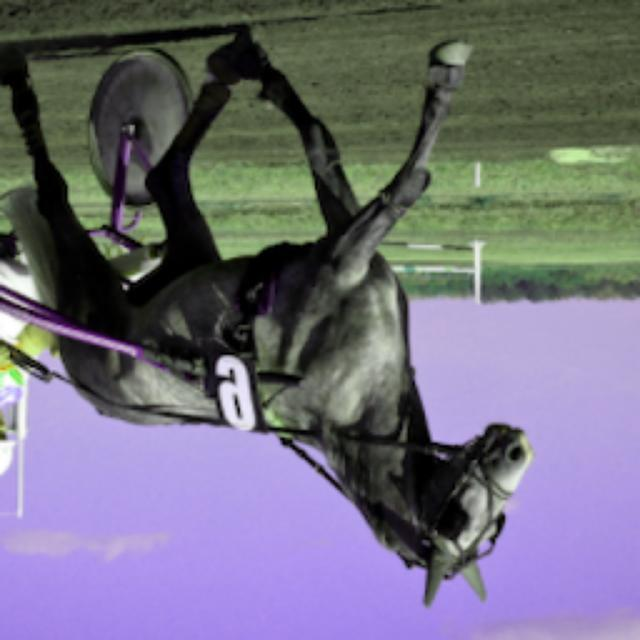Horse: (0, 22, 538, 612)
